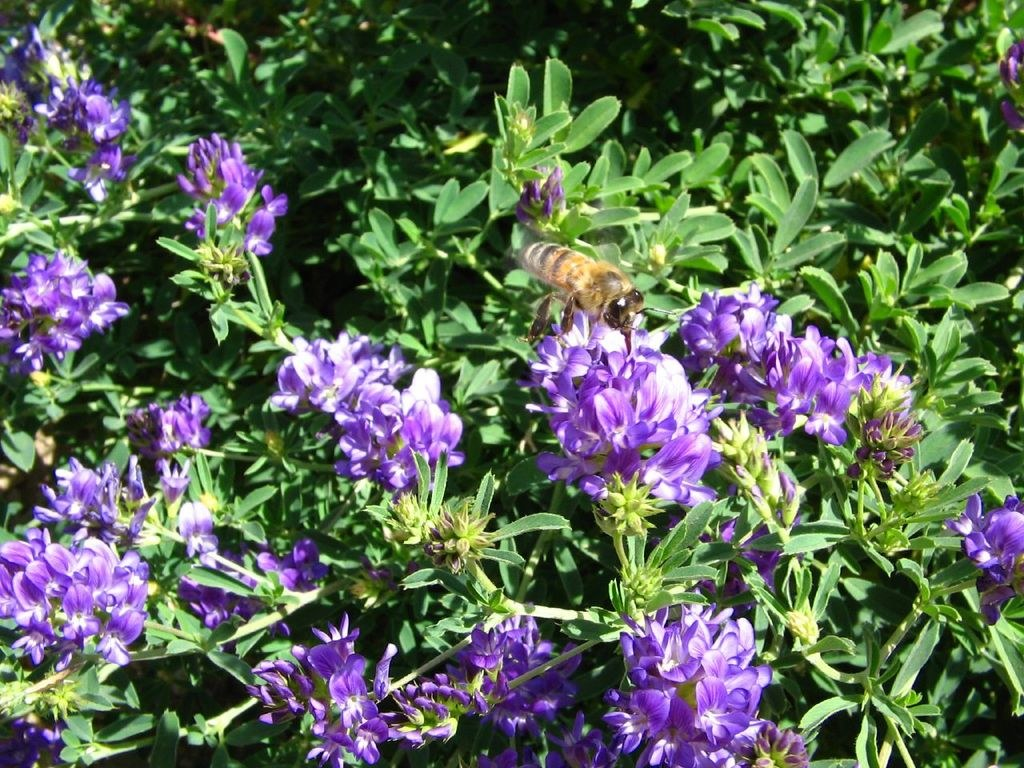bee: (514, 223, 660, 338)
insect: (243, 274, 925, 767), (0, 390, 389, 767), (262, 330, 473, 487), (1, 21, 138, 201), (0, 242, 130, 382), (177, 131, 295, 266), (947, 487, 1023, 622)
